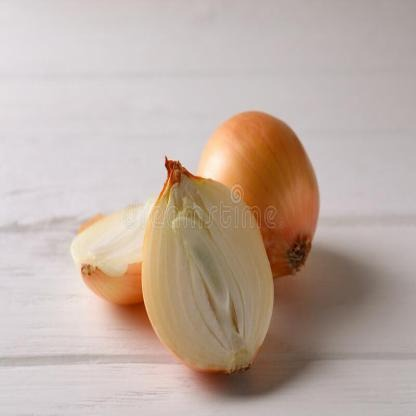onion: (162, 112, 415, 404), (83, 265, 155, 339)
